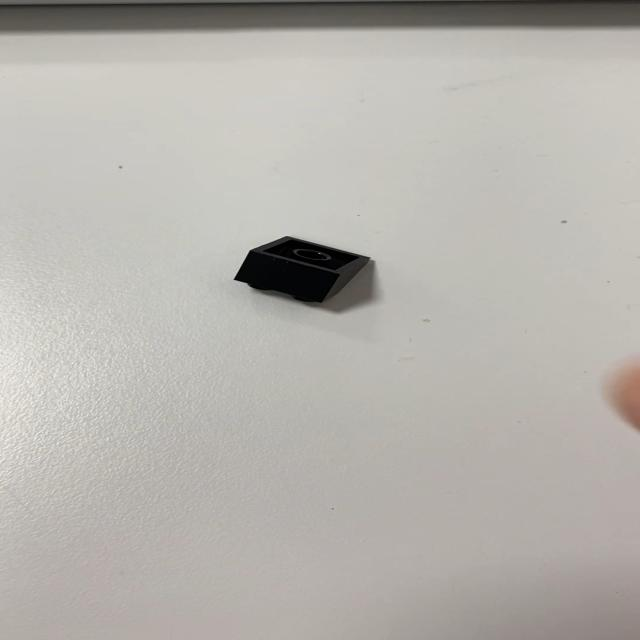P2x2x1: (232, 234, 371, 304)
